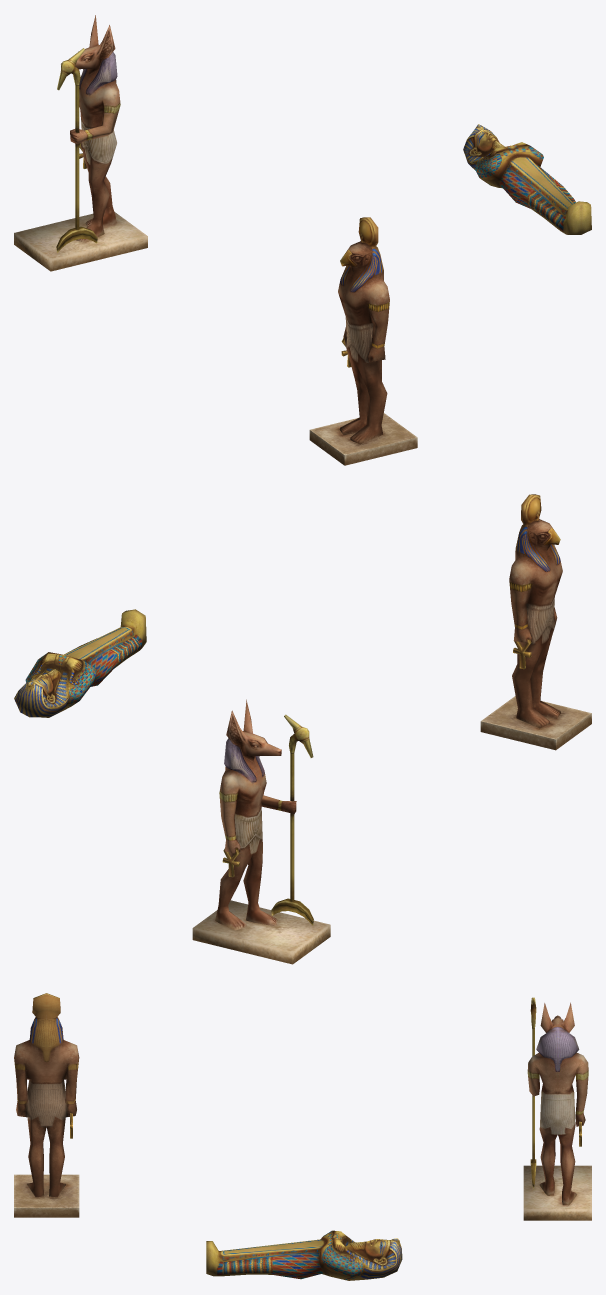
Rendered from Egyptian Statues.FBX.
The picture shows the model from 3 angles, top to bottom: view 1: azimuth 30°, elevation 25°; view 2: azimuth 150°, elevation 25°; view 3: azimuth 270°, elevation 25°; orthographic projection. The views are drawn at different scales.
Parts seen in each view (by area): view 1: Anubis, Horus, Mummy; view 2: Anubis, Horus, Mummy; view 3: Horus, Anubis, Mummy.
Part boxes in pixels (x1,y1,x2,y2): Anubis: (14,15,147,271); Horus: (309,217,417,465); Mummy: (463,124,591,234); Anubis: (192,699,330,964); Horus: (480,494,591,750); Mummy: (14,609,146,717); Horus: (14,993,79,1217); Anubis: (523,997,591,1220); Mummy: (206,1230,402,1280).
Bounding box in the file's own units: 9.92 × 5.53 × 13.75.
